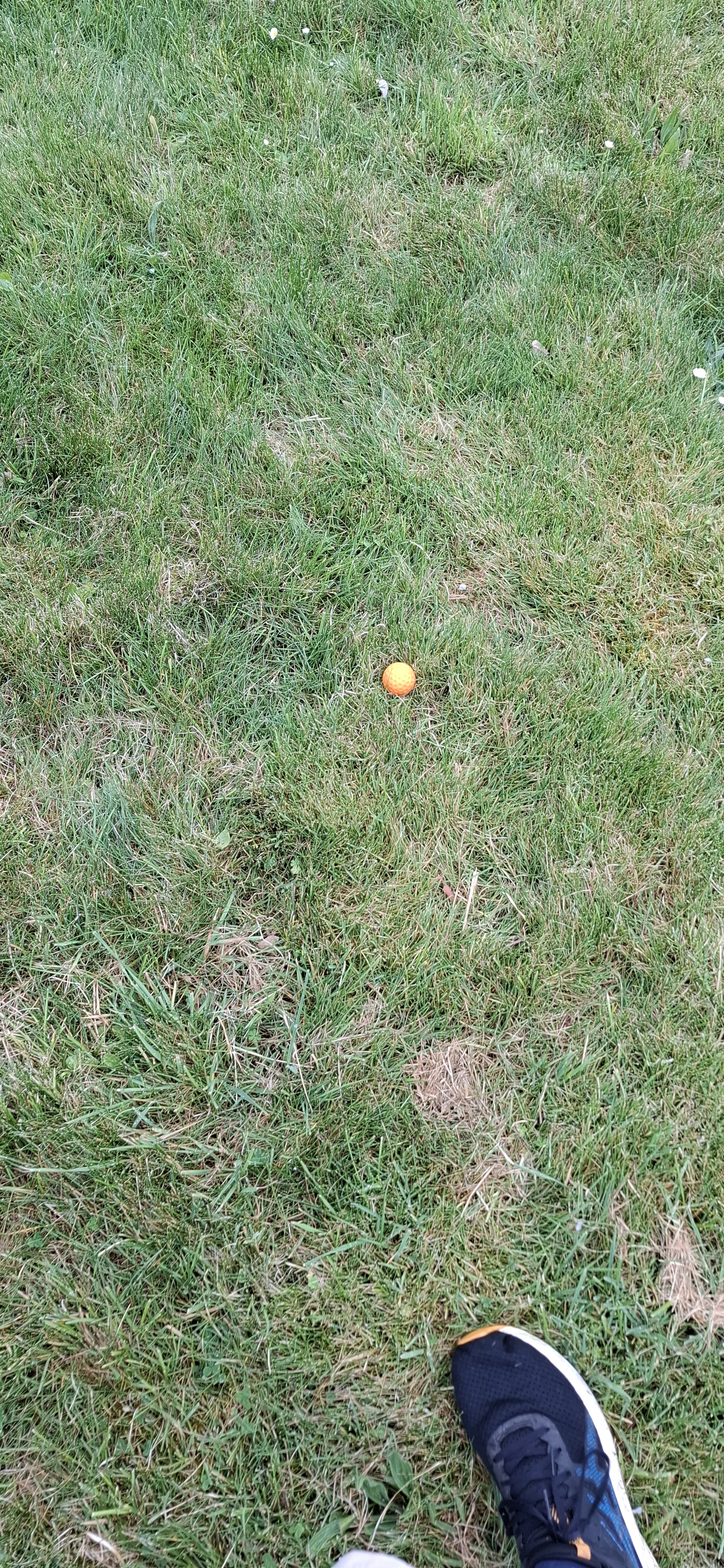ball: (306, 666, 321, 742)
